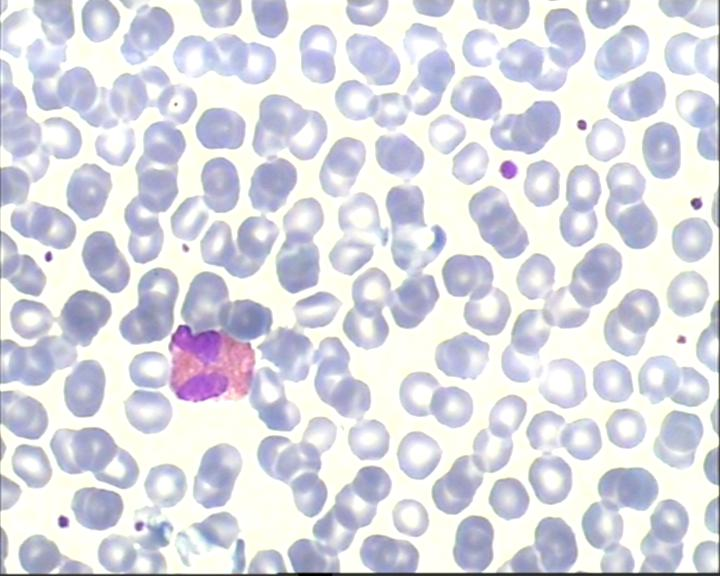eosi: (167, 318, 260, 409)
